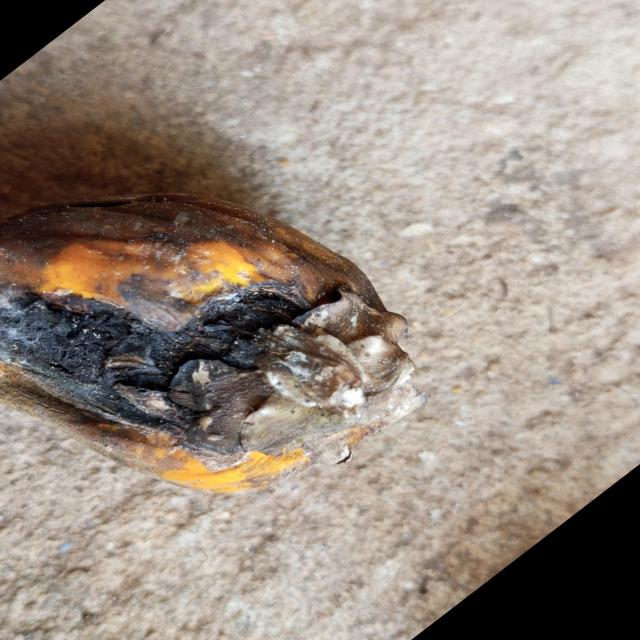damaged: (0, 194, 425, 493)
